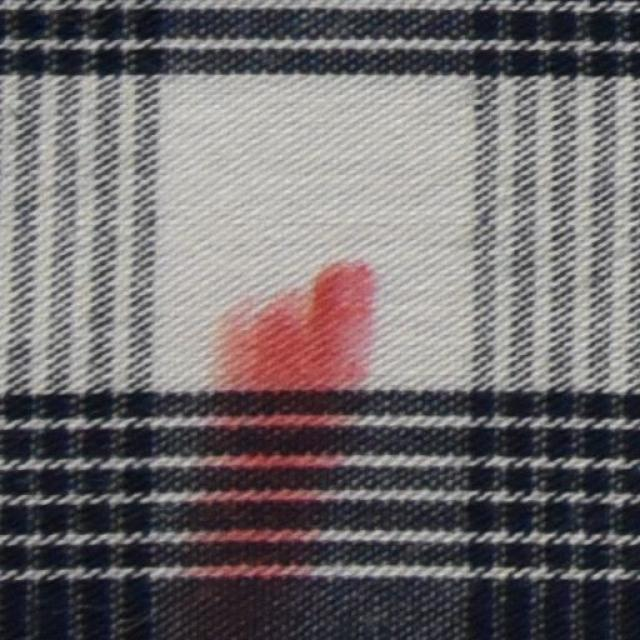Stain: (175, 238, 373, 627)
